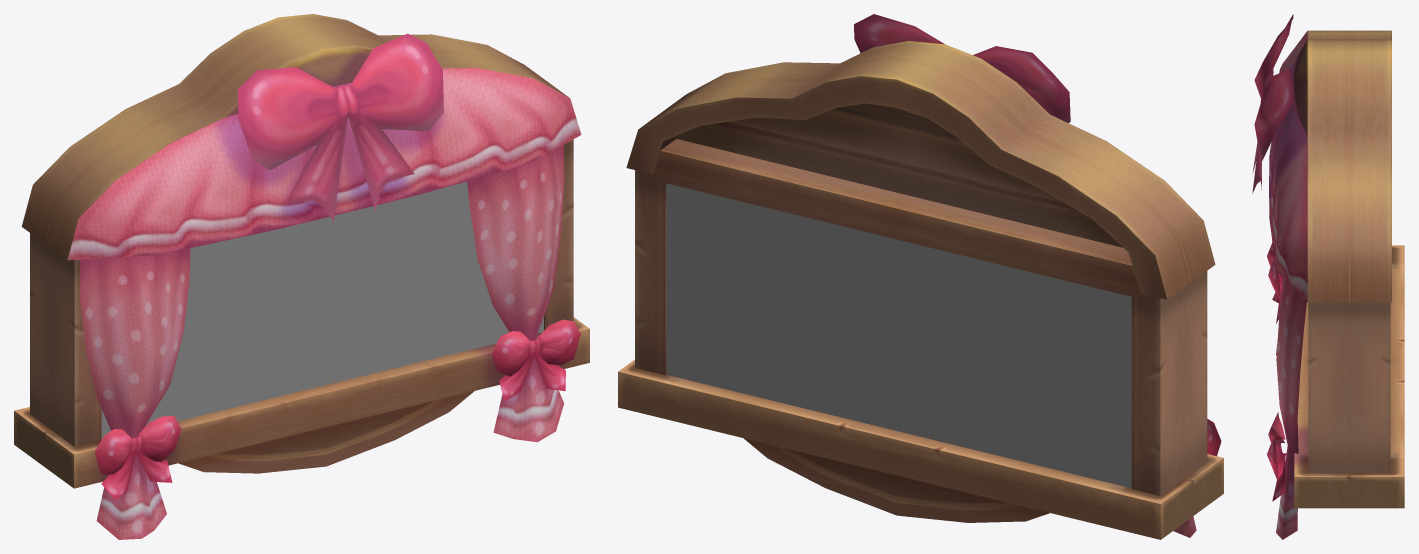
The model's file is FT_WindowE03.FBX.
The picture shows the model from 3 angles, left to right: view 1: azimuth 30°, elevation 25°; view 2: azimuth 150°, elevation 25°; view 3: azimuth 270°, elevation 25°; orthographic projection. The views are drawn at different scales.
Parts seen in each view (by area): view 1: FT_WindowE03, FT_WindowE03_SeeThrough_Front; view 2: FT_WindowE03_out, FT_WindowE03_SeeThrough_Back, FT_WindowE03; view 3: FT_WindowE03.
Part boxes in pixels (x1,y1,x2,y2): FT_WindowE03: [14, 14, 589, 539]; FT_WindowE03_SeeThrough_Front: [101, 181, 543, 438]; FT_WindowE03_out: [618, 76, 1166, 539]; FT_WindowE03_SeeThrough_Back: [666, 183, 1131, 488]; FT_WindowE03: [618, 14, 1223, 539]; FT_WindowE03: [1252, 14, 1404, 539].
Bounding box in the file's own units: 2.68 × 2.14 × 0.7454.
